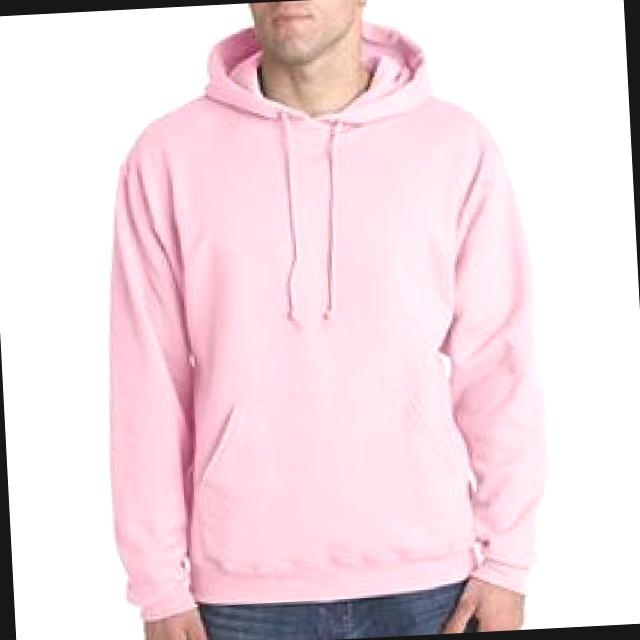sweater: (86, 8, 559, 624)
